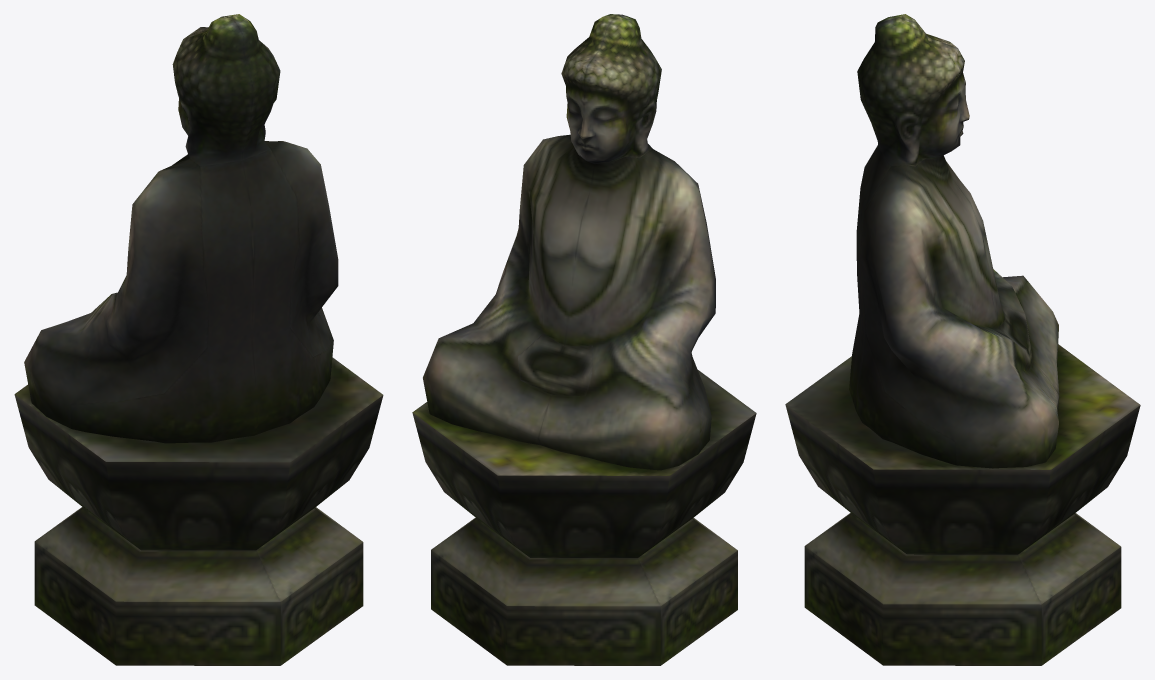
The model's file is Maincity03_Object_fo_LOD0.FBX.
The picture shows the model from 3 angles, left to right: view 1: azimuth 30°, elevation 25°; view 2: azimuth 150°, elevation 25°; view 3: azimuth 270°, elevation 25°; orthographic projection. The views are drawn at different scales.
Visible parts, largest first — view 1: cmc_Object_fo_LOD0; view 2: cmc_Object_fo_LOD0; view 3: cmc_Object_fo_LOD0.
Part boxes in pixels (<box>): cmc_Object_fo_LOD0: <box>14,14,383,665</box>; cmc_Object_fo_LOD0: <box>412,14,756,665</box>; cmc_Object_fo_LOD0: <box>785,14,1140,665</box>.
Size of the model in its own units: 9.38 by 19.18 by 10.46.
